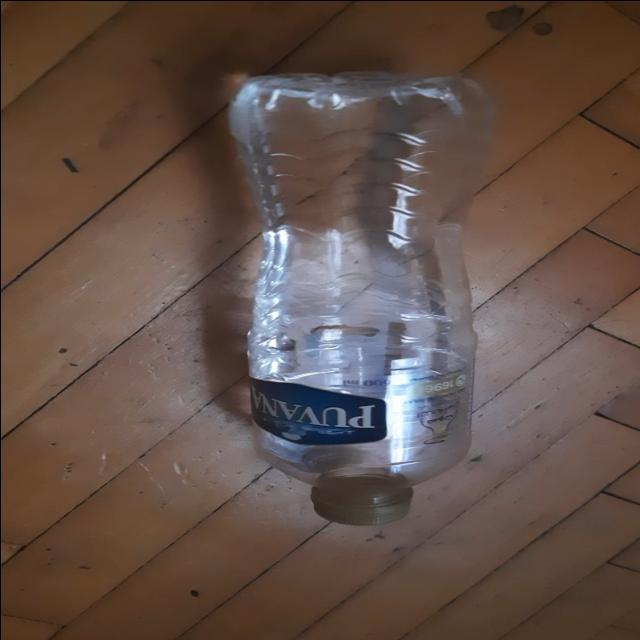Plastic: (228, 66, 494, 524)
